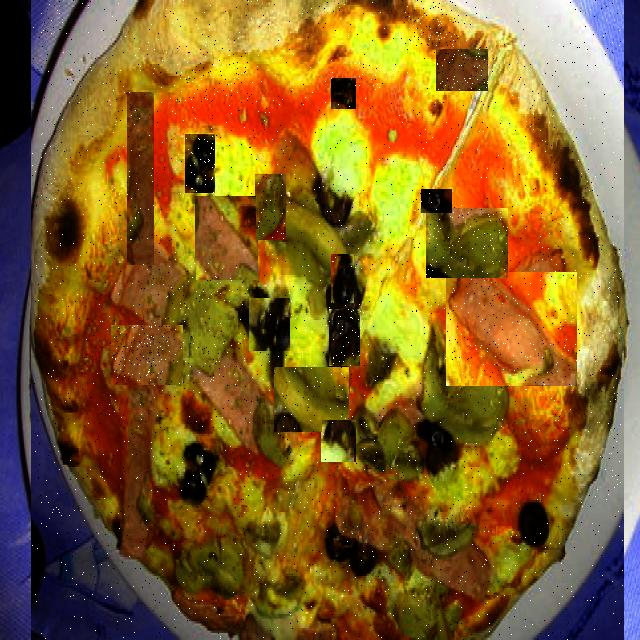Ham: (447, 272, 577, 386), (196, 197, 258, 280), (128, 92, 154, 265), (112, 325, 183, 385), (348, 108, 420, 144), (437, 49, 488, 91), (247, 0, 272, 7)
Mushrooms: (163, 263, 246, 383), (427, 208, 508, 278), (275, 367, 349, 432), (176, 48, 248, 102), (356, 168, 412, 232), (402, 0, 459, 47), (256, 174, 286, 240)
Olives: (250, 298, 290, 351), (186, 134, 215, 193), (330, 309, 360, 366), (322, 420, 356, 462), (522, 88, 548, 142), (332, 254, 354, 303), (332, 78, 356, 109), (422, 189, 452, 213), (355, 63, 380, 91)
Pizza: (32, 0, 623, 640)
